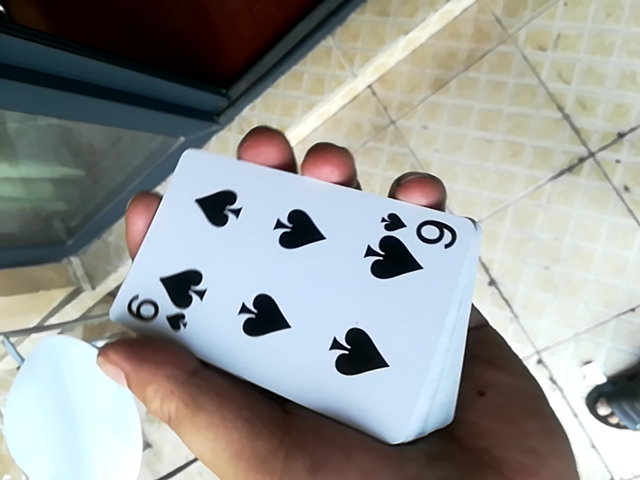ht 6: (97, 139, 465, 459)
